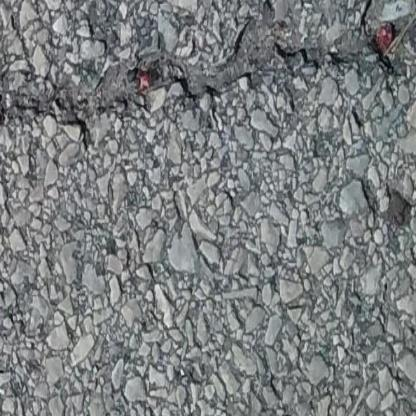Cracks: (0, 0, 416, 129)
